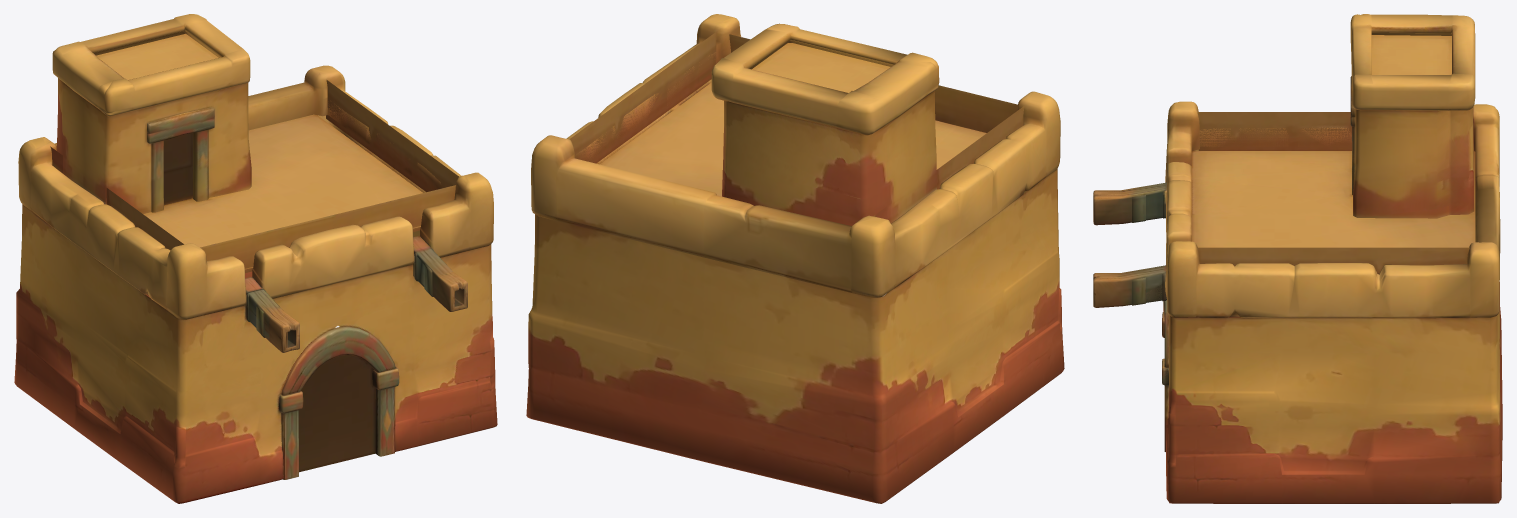
The model's file is SM_Tripo_DesertBuriedRoofFlat.glb.
3 renders of one model, left to right at view 1: azimuth 30°, elevation 25°; view 2: azimuth 150°, elevation 25°; view 3: azimuth 270°, elevation 25°, orthographic. The views are drawn at different scales.
Parts seen in each view (by area): view 1: SM_Tripo_DesertBuriedRoofFlat_LOD0; view 2: SM_Tripo_DesertBuriedRoofFlat_LOD0; view 3: SM_Tripo_DesertBuriedRoofFlat_LOD0.
Boxes of the visible parts, x1=… form: SM_Tripo_DesertBuriedRoofFlat_LOD0: x1=14, y1=14, x2=497, y2=503; SM_Tripo_DesertBuriedRoofFlat_LOD0: x1=526, y1=14, x2=1064, y2=503; SM_Tripo_DesertBuriedRoofFlat_LOD0: x1=1093, y1=14, x2=1502, y2=503.
Bounding box in the file's own units: 3.56 × 3.6 × 3.87.
1 material, 1 textured.
